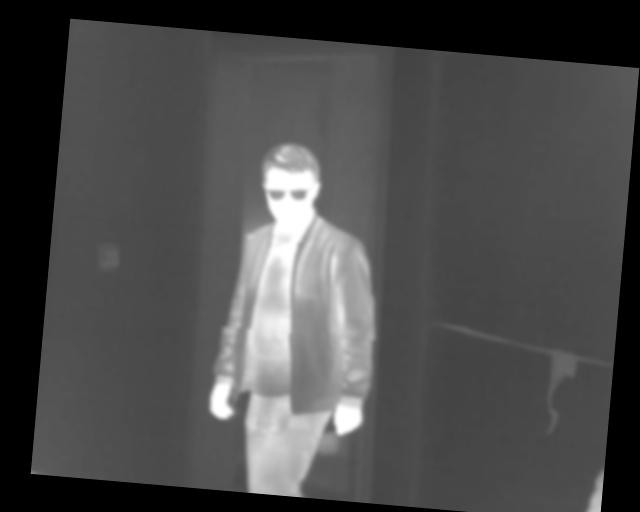face: (256, 139, 324, 228)
